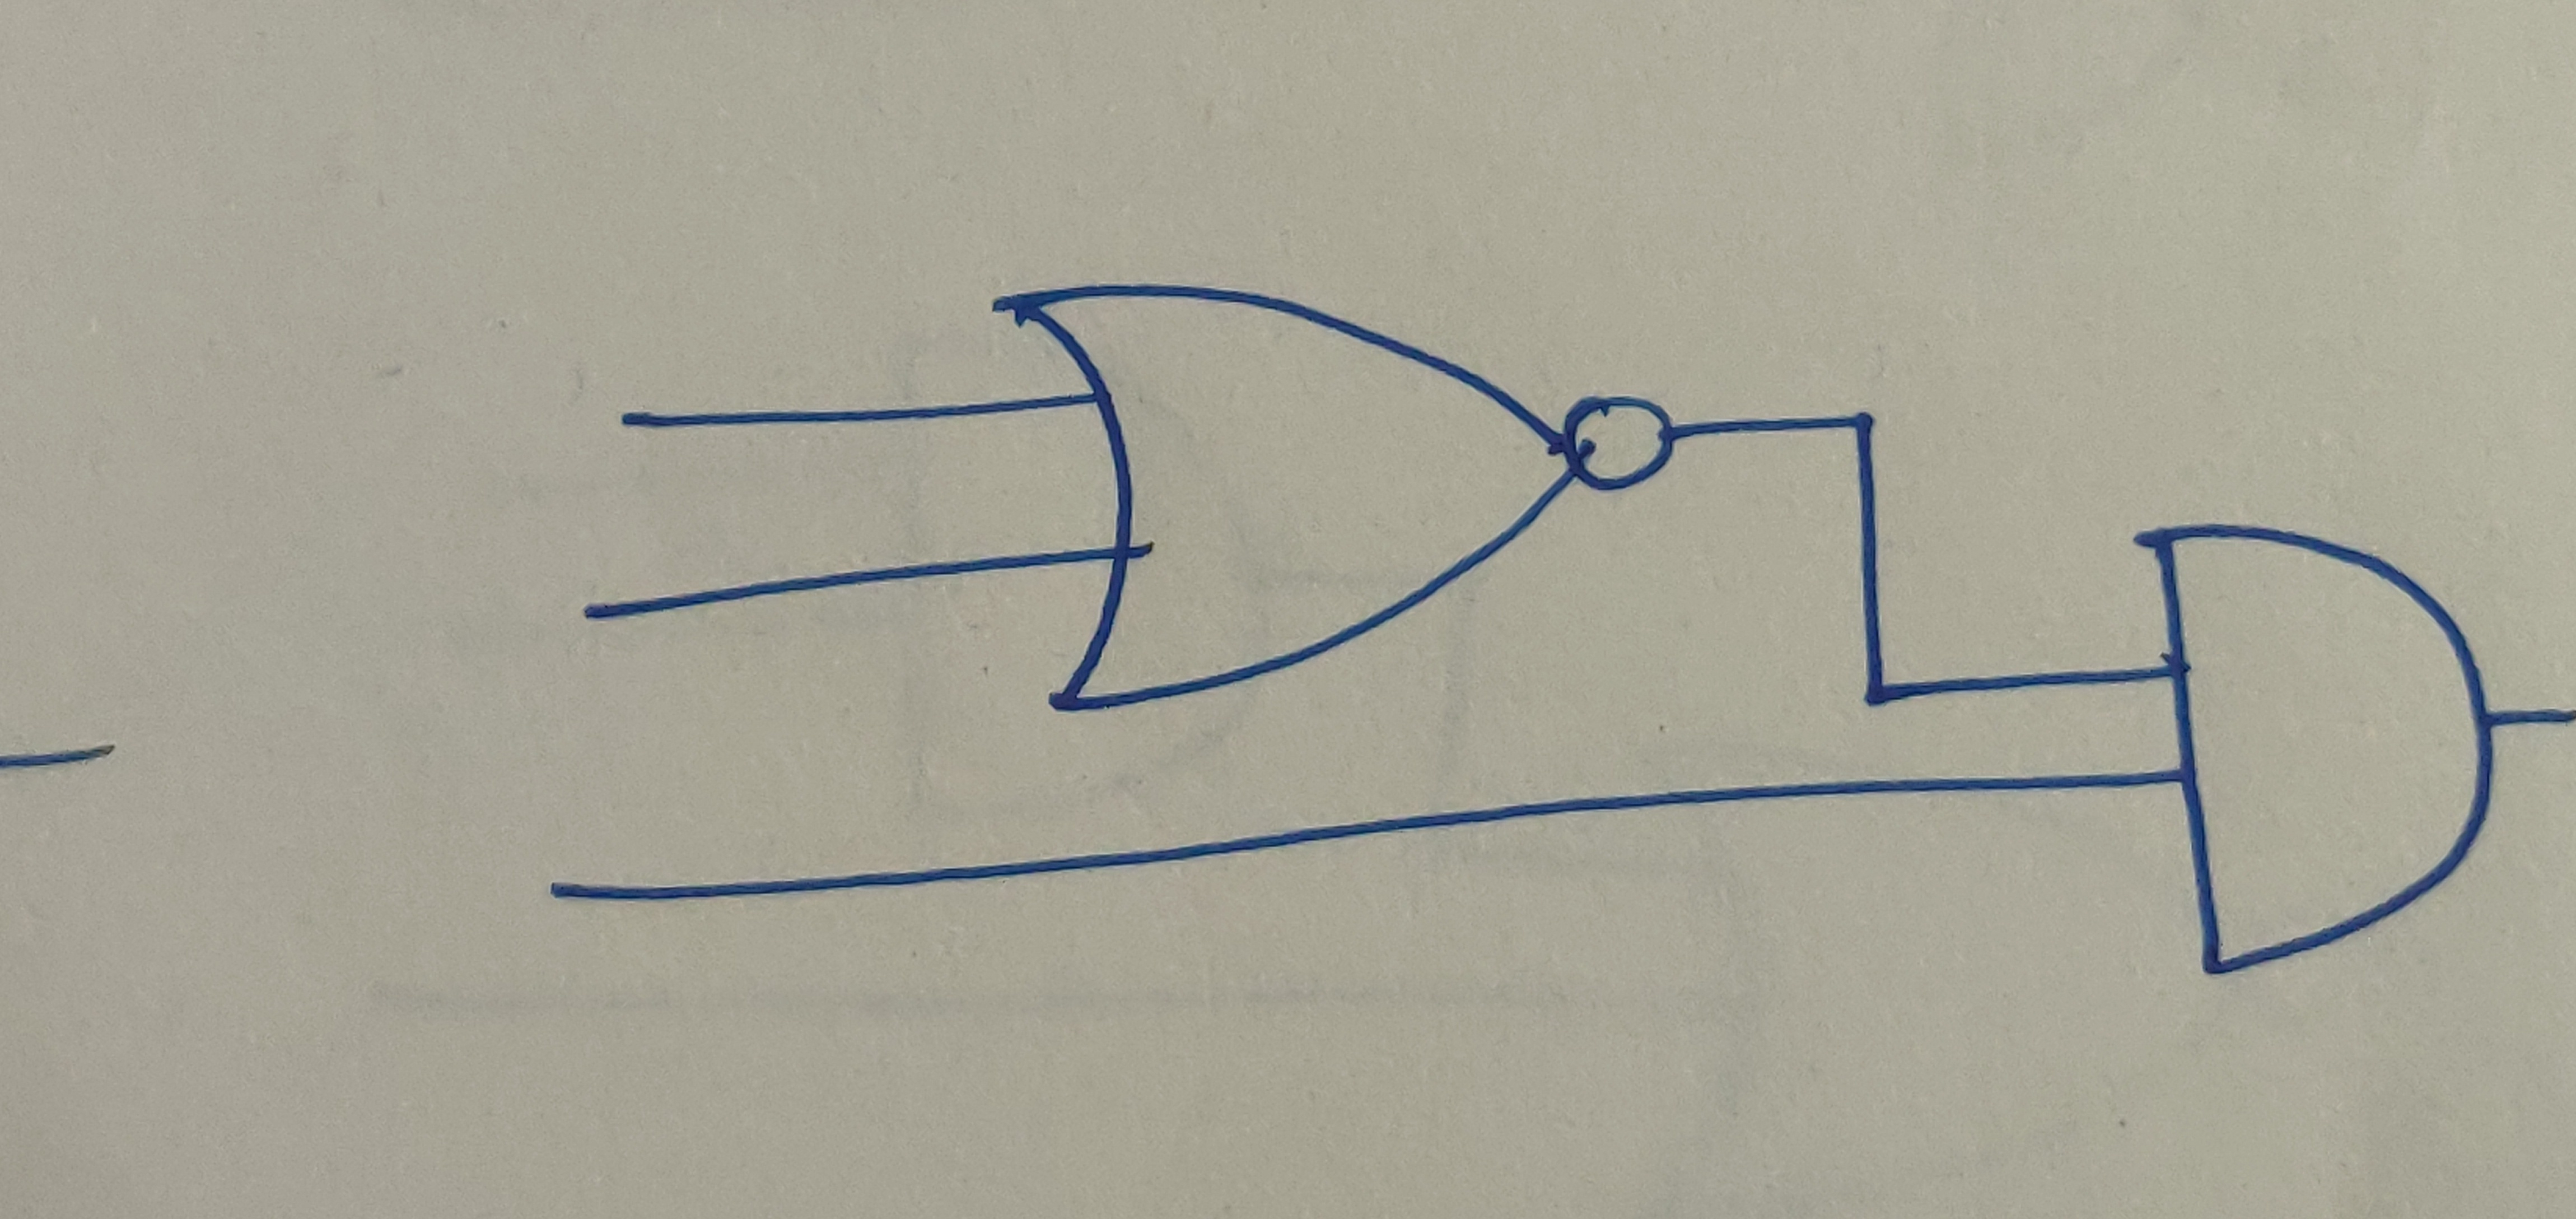and: (2134, 521, 2504, 992)
not: (1557, 389, 1682, 501)
or: (994, 279, 1580, 718)
